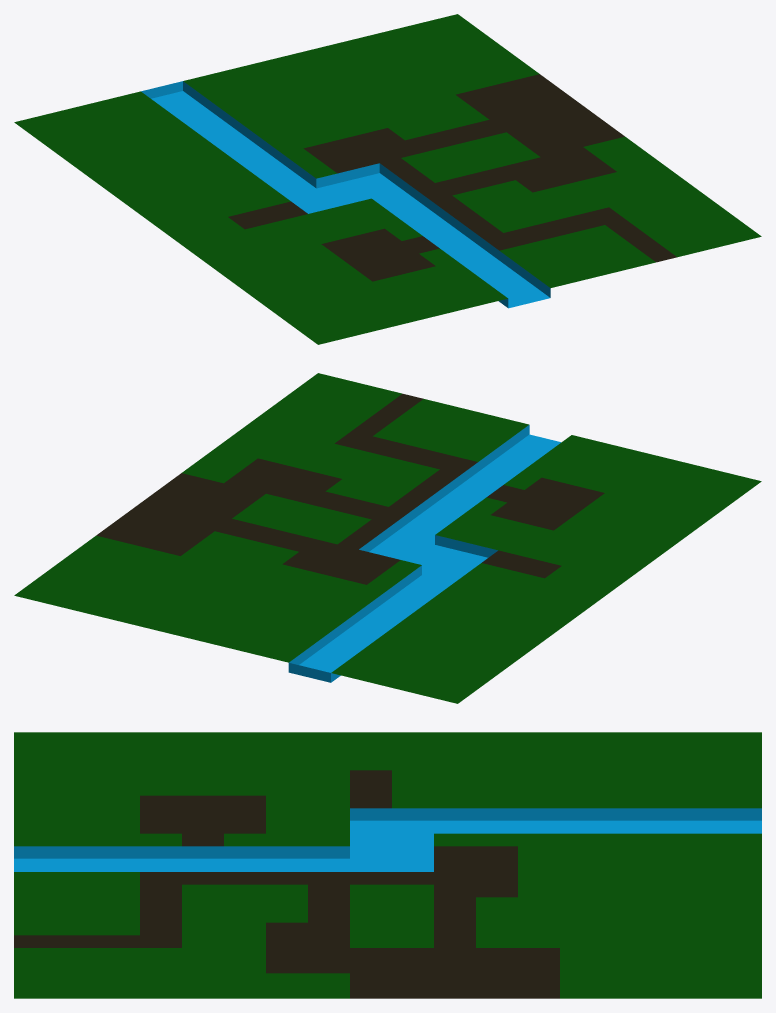
File: Ground_plane_AK.fbx
3 views of the same model, one above another, from view 1: azimuth 30°, elevation 25°; view 2: azimuth 150°, elevation 25°; view 3: azimuth 270°, elevation 25° (orthographic). The views are drawn at different scales.
Parts seen in each view (by area): view 1: pPlane1; view 2: pPlane1; view 3: pPlane1.
Boxes of the visible parts, bbox=[...] form: pPlane1: bbox=[14, 14, 761, 344]; pPlane1: bbox=[14, 373, 761, 703]; pPlane1: bbox=[14, 732, 761, 998].
Size of the model in its own units: 4500 by 95.65 by 5341.
